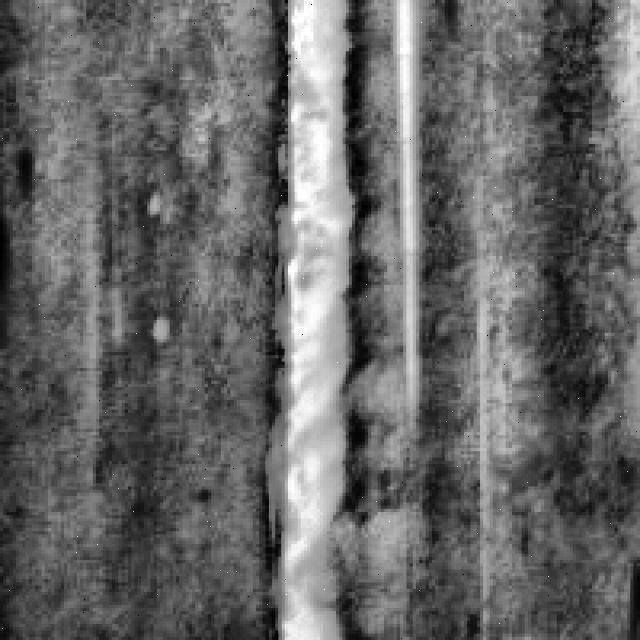Inclusion: (275, 0, 384, 634), (394, 0, 428, 416)
